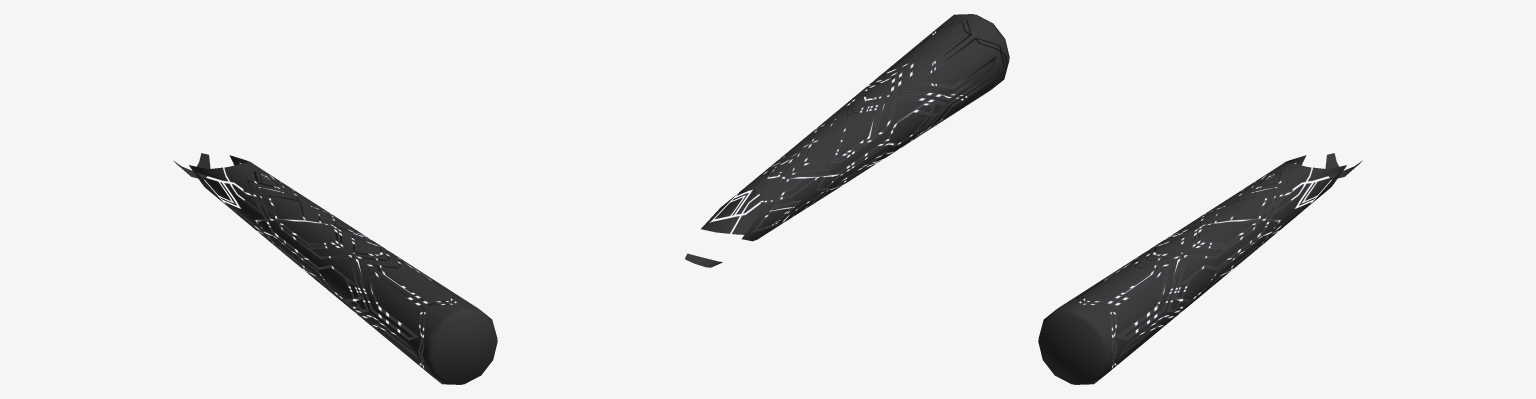
Rendered from Weapon.glb.
3 renders of one model, left to right at view 1: azimuth 30°, elevation 25°; view 2: azimuth 150°, elevation 25°; view 3: azimuth 330°, elevation 25°, orthographic.
Parts seen in each view (by area): view 1: playergirl_weapon00_034_000_LOD0; view 2: playergirl_weapon00_034_000_LOD0; view 3: playergirl_weapon00_034_000_LOD0.
Part boxes in pixels (box(x1,y1,x2,y2)): playergirl_weapon00_034_000_LOD0: box(173, 153, 497, 384); playergirl_weapon00_034_000_LOD0: box(685, 14, 1009, 267); playergirl_weapon00_034_000_LOD0: box(1038, 153, 1362, 384).
Bounding box in the file's own units: 0.0929 × 0.0929 × 0.9518.
1 material, 1 textured.
